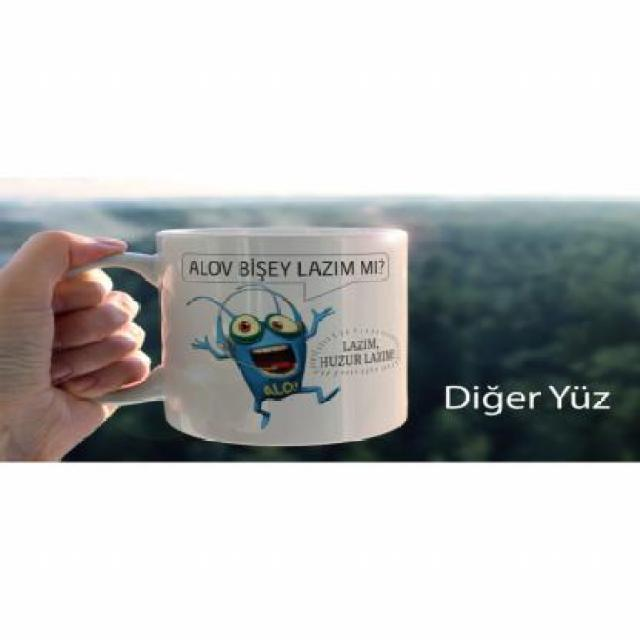taza: (46, 214, 416, 453)
